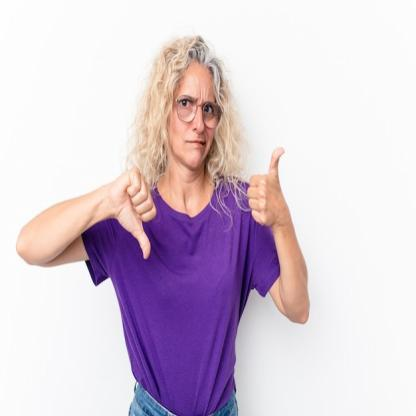thumb_down: (106, 162, 160, 262)
thumb_up: (245, 140, 289, 228)
